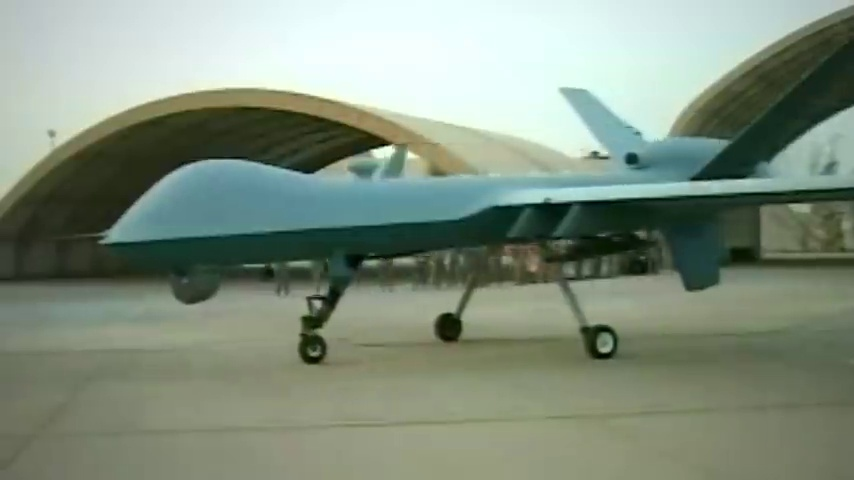military drone: (99, 38, 854, 359)
